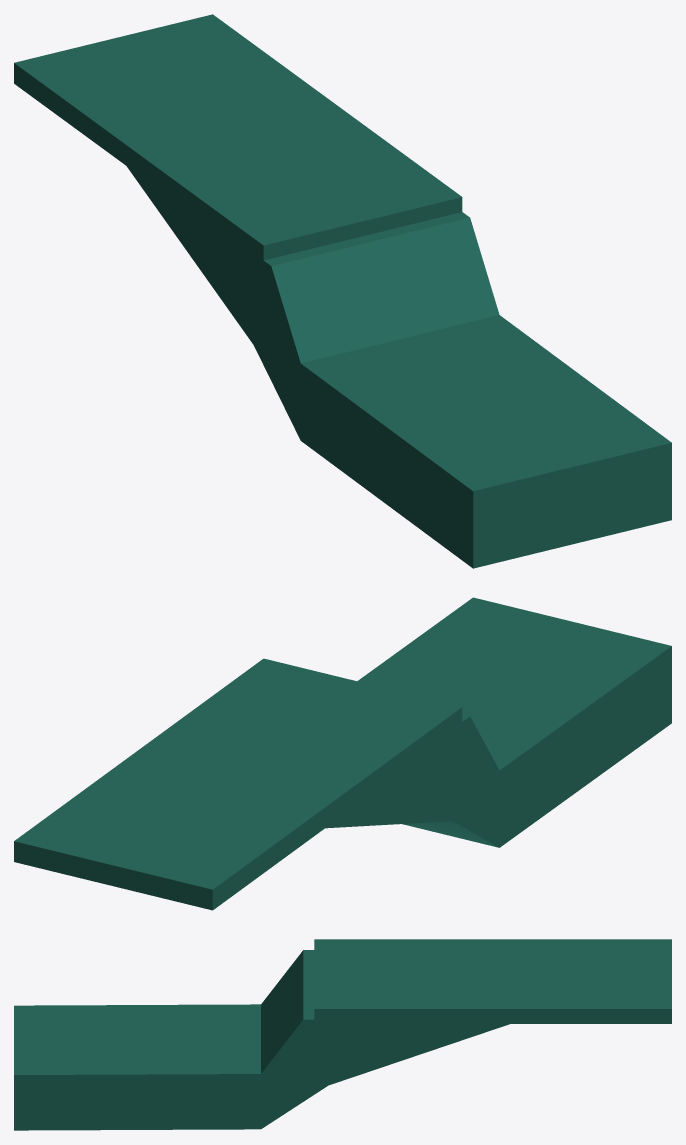
File: Ceiling_UponColumnA.FBX
3 views of the same model, one above another, from view 1: azimuth 30°, elevation 25°; view 2: azimuth 150°, elevation 25°; view 3: azimuth 270°, elevation 25° (orthographic). The views are drawn at different scales.
Parts seen in each view (by area): view 1: Ceiling_UponColumnA; view 2: Ceiling_UponColumnA; view 3: Ceiling_UponColumnA.
Part boxes in pixels (bbox=[...]): Ceiling_UponColumnA: bbox=[14, 14, 671, 568]; Ceiling_UponColumnA: bbox=[14, 597, 671, 910]; Ceiling_UponColumnA: bbox=[14, 939, 671, 1130].
Size of the model in its own units: 100 by 81.57 by 400.
